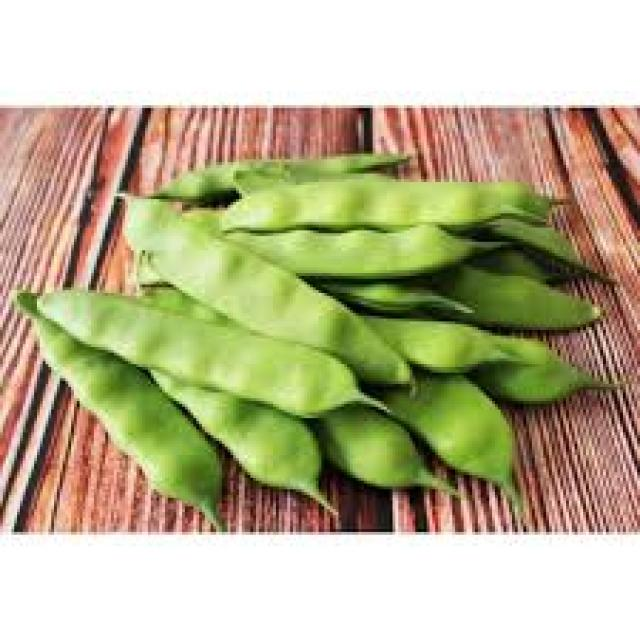food_waste: (14, 154, 606, 526)
